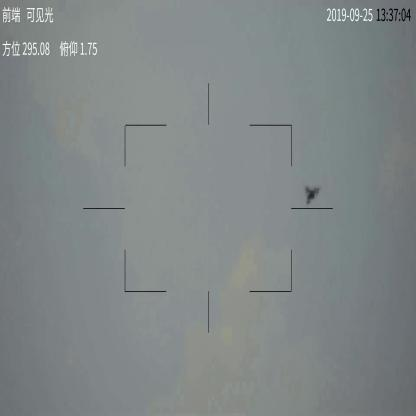uav: (304, 182, 322, 208)
